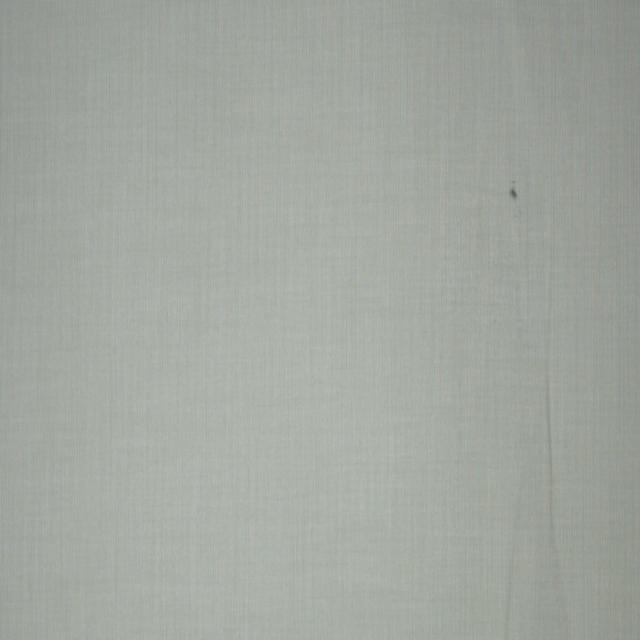dirty: (509, 180, 518, 201), (515, 207, 521, 218)
